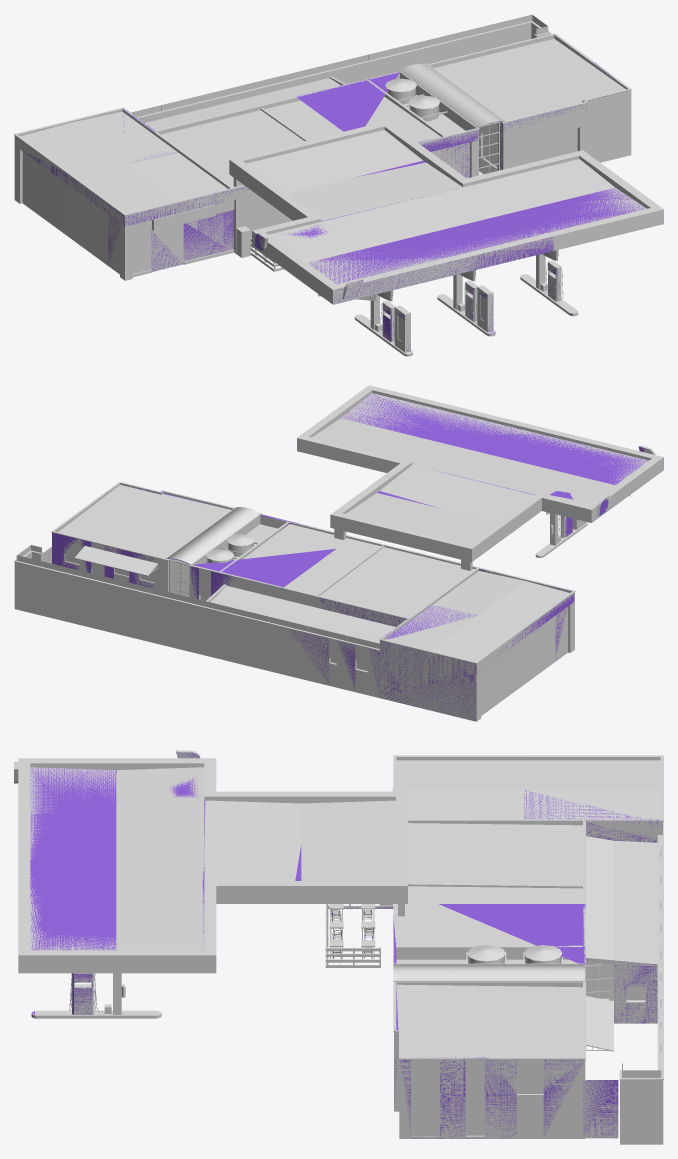
Rendered from IPIRANGA.fbx.
3 renders of one model, top to bottom at view 1: azimuth 30°, elevation 25°; view 2: azimuth 150°, elevation 25°; view 3: azimuth 270°, elevation 25°, orthographic. The views are drawn at different scales.
Visible parts, largest first — view 1: Ipiranga_LOD0, UTM_IPIRANGA; view 2: Ipiranga_LOD0, UTM_IPIRANGA; view 3: Ipiranga_LOD0, UTM_IPIRANGA.
Part boxes in pixels (x1,y1,x2,y2): Ipiranga_LOD0: (14,14,663,356); UTM_IPIRANGA: (20,36,644,356); Ipiranga_LOD0: (14,385,663,721); UTM_IPIRANGA: (47,393,647,721); Ipiranga_LOD0: (14,750,663,1144); UTM_IPIRANGA: (30,752,662,1138).
Size of what is drawn, in the model's own units: 3538 by 621 by 3145.
